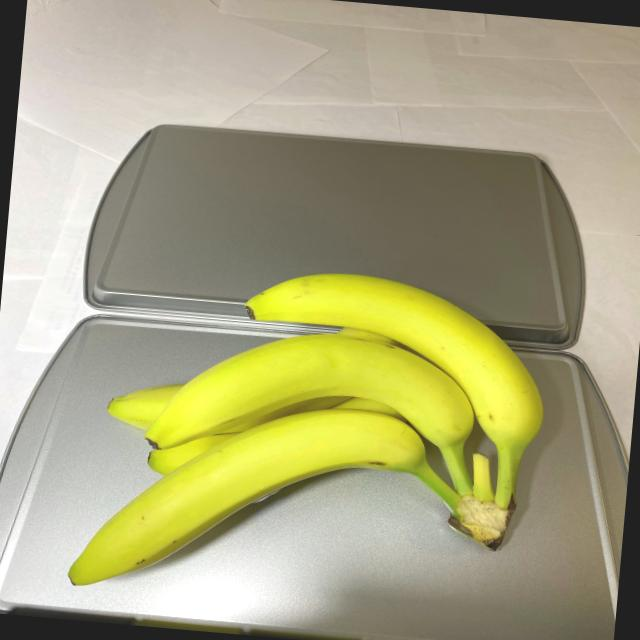banana: (60, 246, 558, 635)
